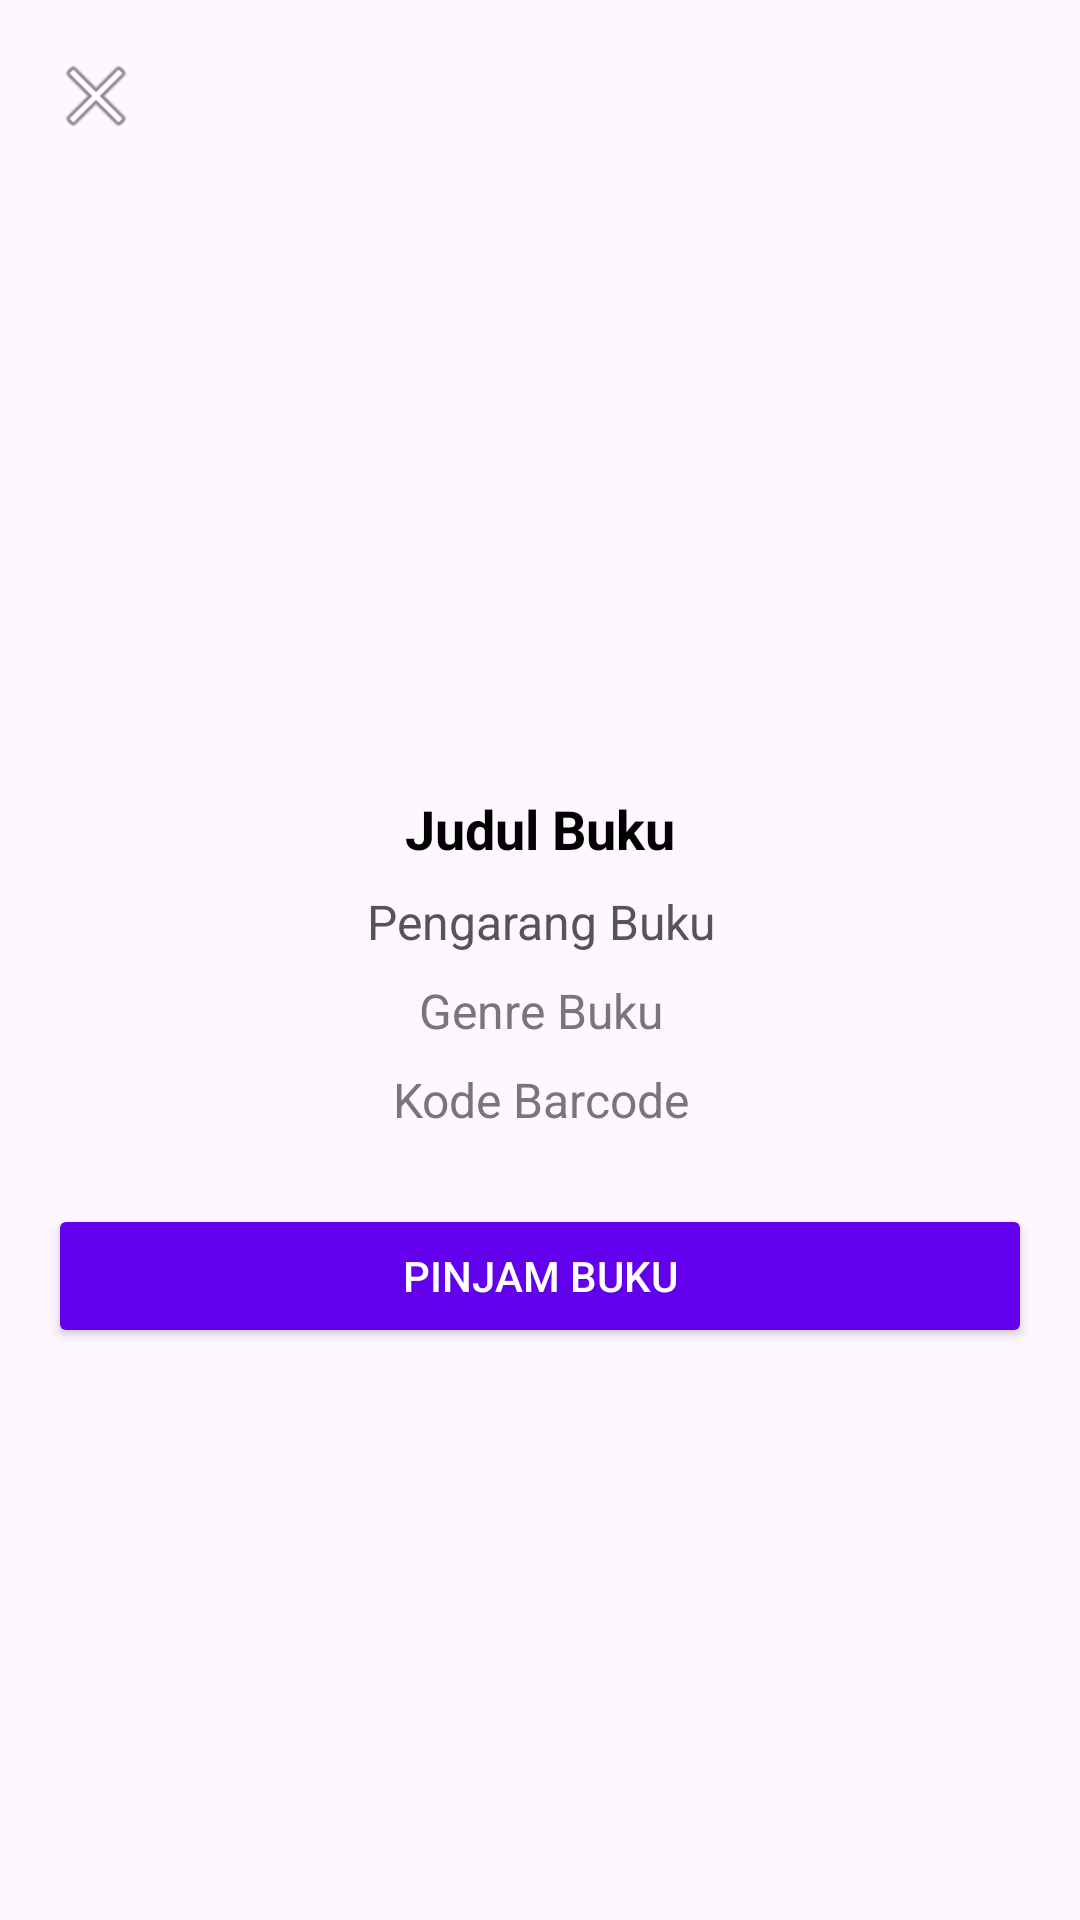

Where icons sit on this 1080 × 1920 app screen, as BBox(x1, y1, x2, y2):
Kembali: BBox(66, 66, 126, 126)
